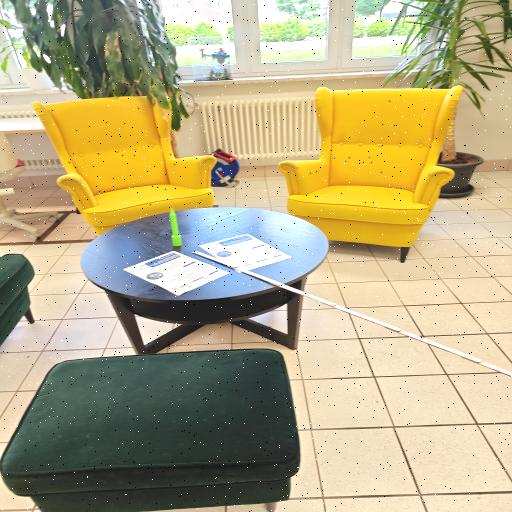Probe-Detection: (170, 208, 182, 246)
